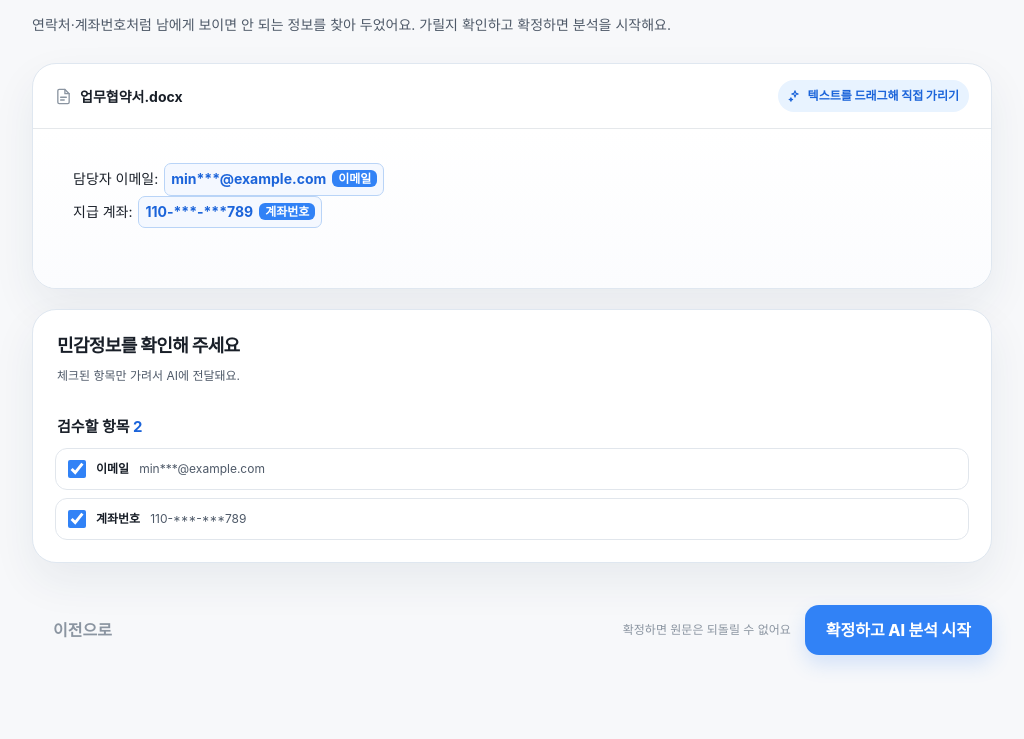
MaskingStep › shows the remaining items again when the server still finds unchecked ones
(page scrolled)
Click the button "확정하고 AI 분석 시작" at (898, 630), box top-left (805, 605), bottom-right (992, 655)
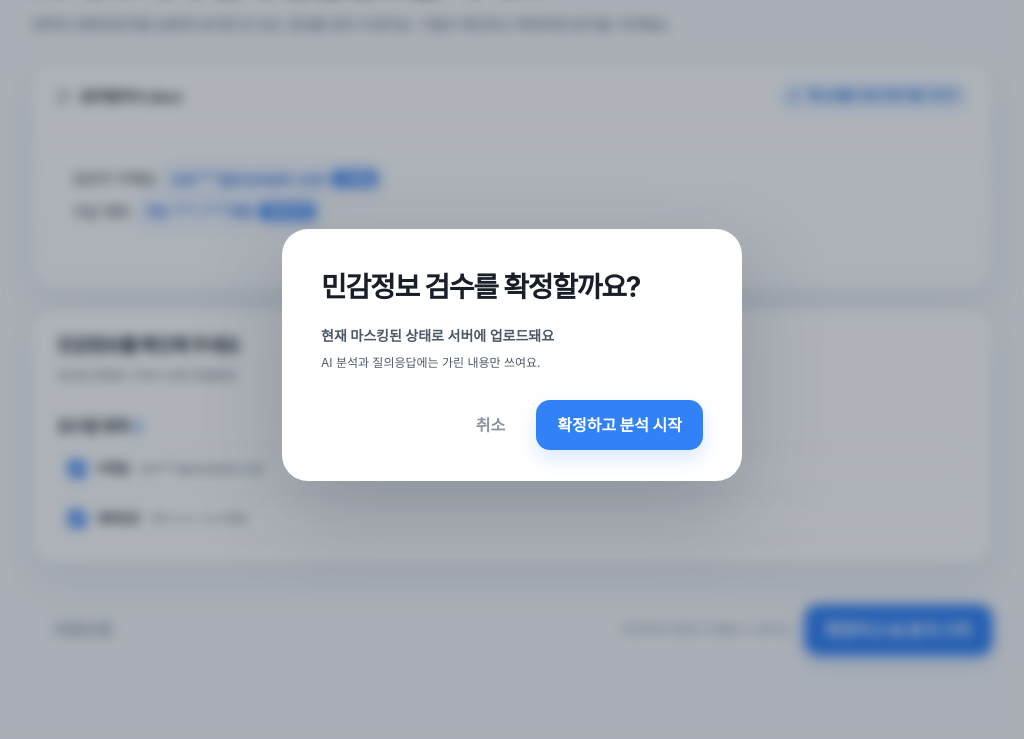
Click the button "확정하고 분석 시작" at (620, 426), box top-left (536, 400), bottom-right (703, 450)
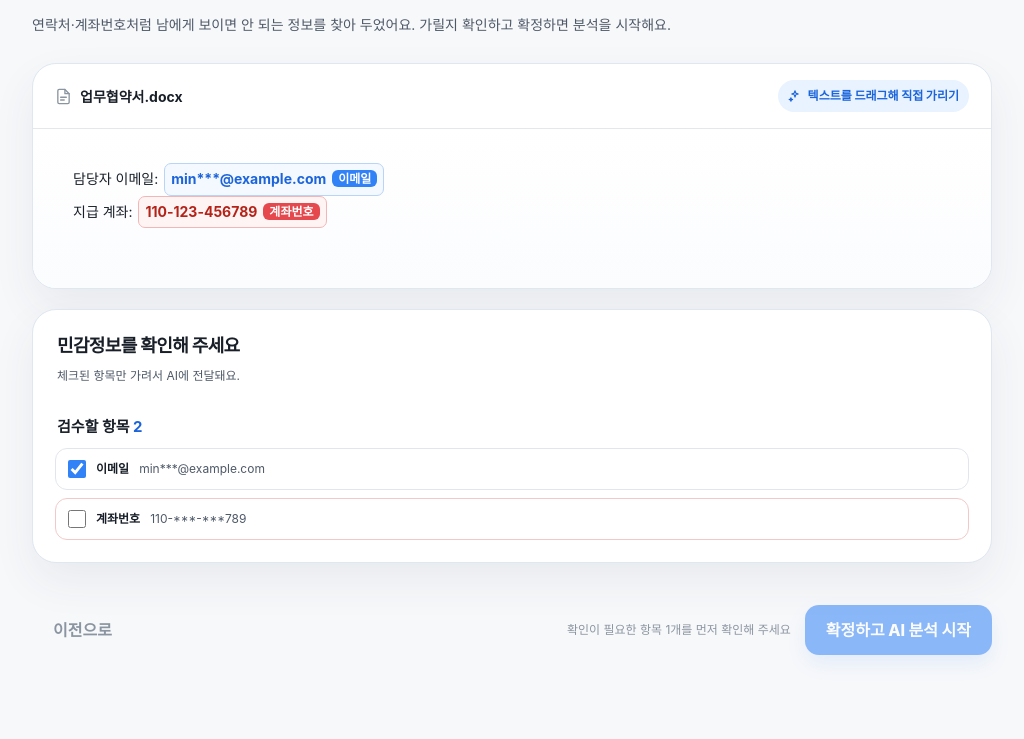
Now the text "확인이 필요한 항목 1개를 먼저 확인해 주세요" is shown, box top-left (567, 621), bottom-right (791, 639)
Now the button "확정하고 AI 분석 시작" is disabled, box top-left (805, 605), bottom-right (992, 655)
